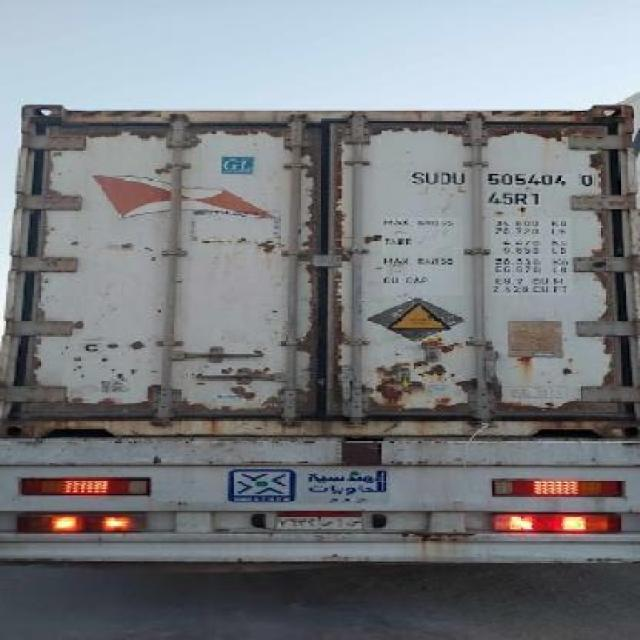ISO: (488, 188, 540, 210)
container_number: (408, 168, 598, 190)
